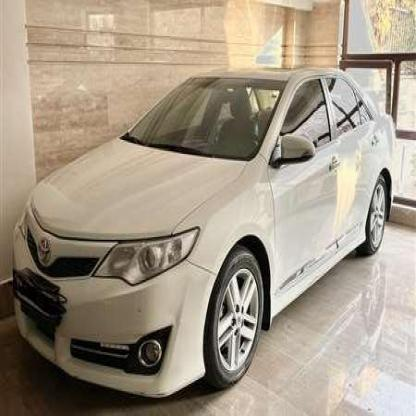Car: (11, 70, 398, 400)
